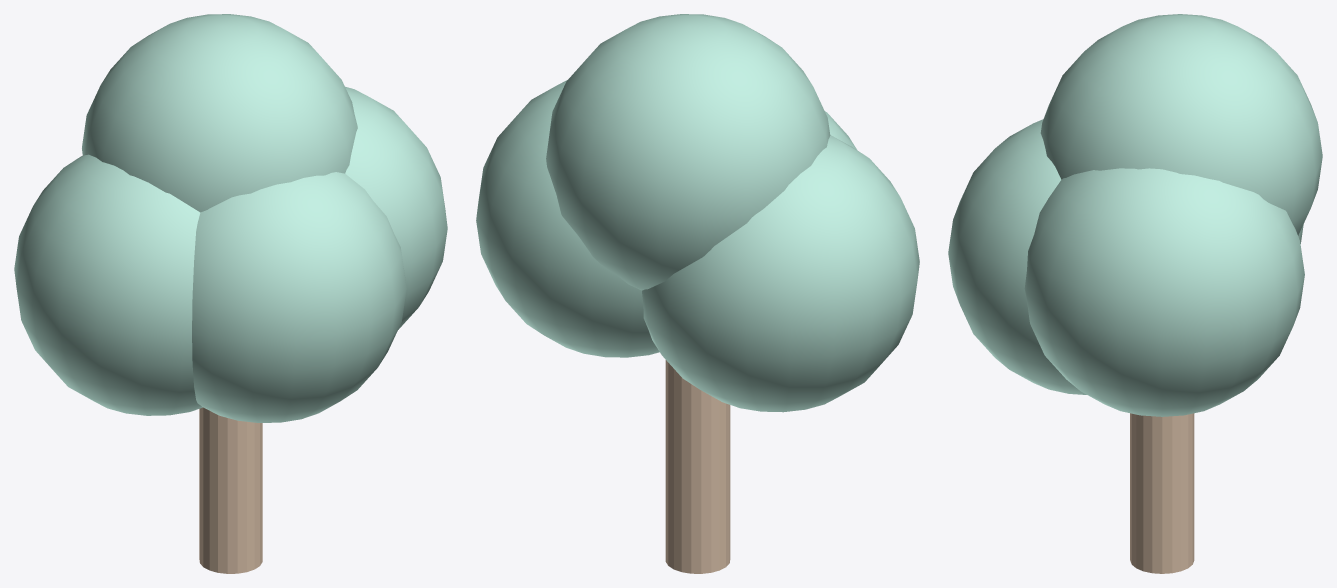
The model's file is tree-round.glb.
3 views of the same model, side by side, from view 1: azimuth 30°, elevation 25°; view 2: azimuth 150°, elevation 25°; view 3: azimuth 270°, elevation 25° (orthographic). The views are drawn at different scales.
Visible parts, largest first — view 1: canopy3, canopy2, canopy0, canopy1, trunk; view 2: canopy2, canopy0, canopy1, trunk; view 3: canopy1, canopy2, canopy3, trunk.
Part boxes in pixels (left/top/right/bottom): canopy3: left=192, top=172, right=406, bottom=422; canopy2: left=82, top=14, right=357, bottom=212; canopy0: left=14, top=154, right=202, bottom=415; canopy1: left=345, top=86, right=447, bottom=329; trunk: left=199, top=407, right=262, bottom=573; canopy2: left=546, top=14, right=830, bottom=290; canopy0: left=642, top=135, right=919, bottom=412; canopy1: left=476, top=80, right=659, bottom=357; trunk: left=665, top=360, right=730, bottom=573; canopy1: left=1024, top=168, right=1304, bottom=416; canopy2: left=1040, top=14, right=1322, bottom=235; canopy3: left=948, top=119, right=1086, bottom=394; trunk: left=1130, top=413, right=1194, bottom=573.
Bounding box in the file's own units: 1.3 × 1.65 × 1.05.
